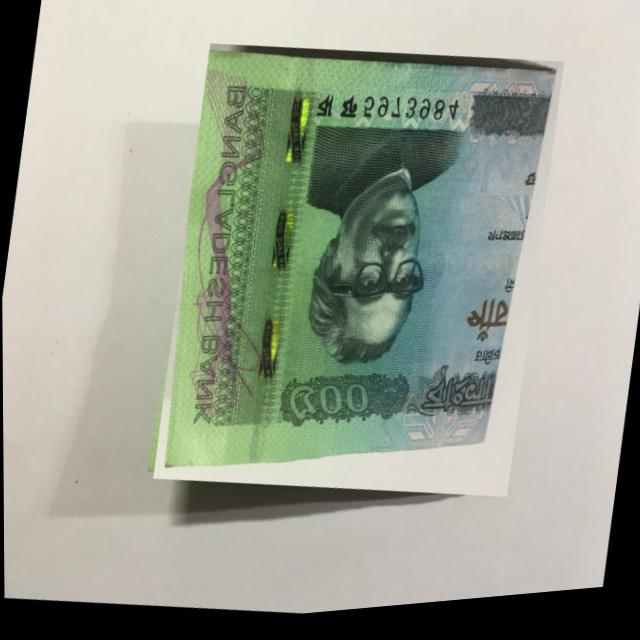Taka: (150, 24, 567, 532)
